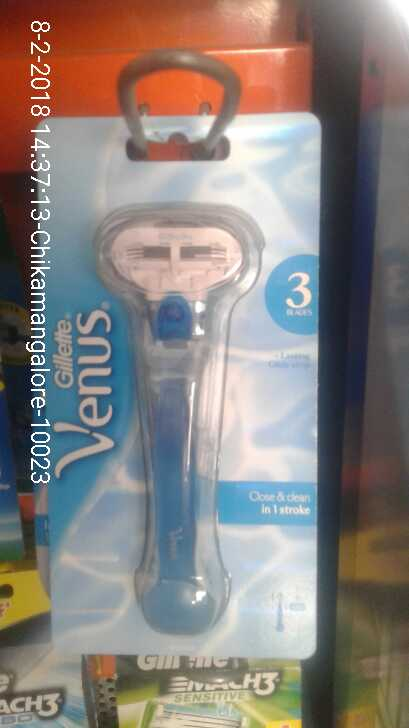venus: (26, 104, 327, 664)
